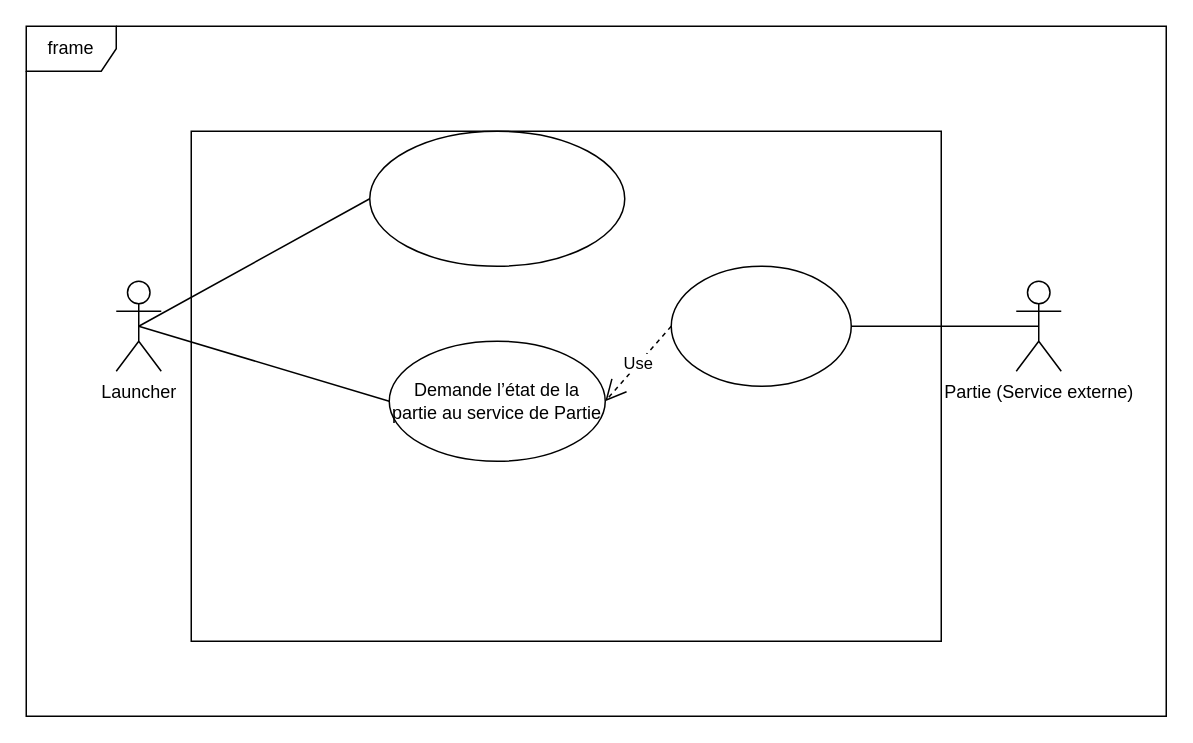
This 1193x743 diagram has some shape labels left out. Each missing label, with the box of its shape:
Fournir l'adresse d'une partie libre a la demande d'un joueur: (368, 130, 625, 266)
Fournir l’état de la partie: (670, 265, 851, 386)
